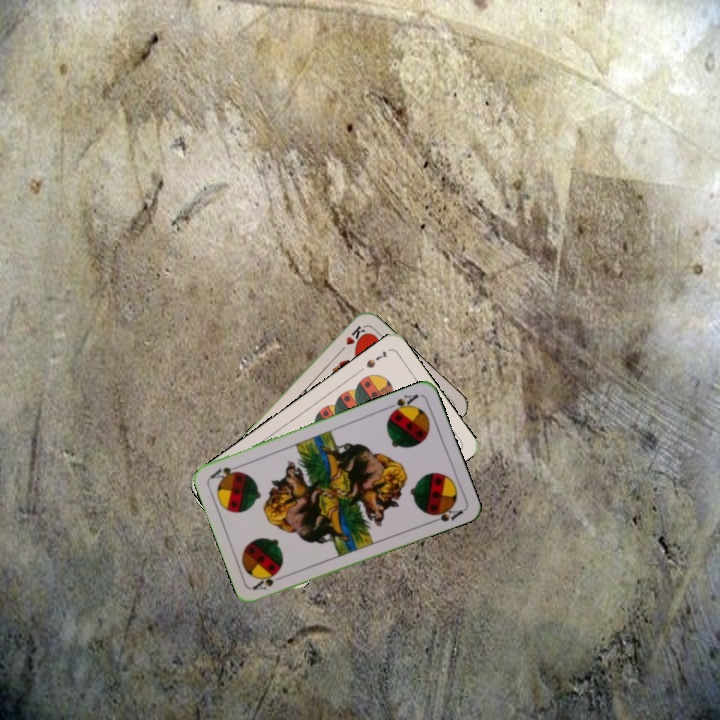HK: (335, 322, 369, 356)
S7: (362, 347, 390, 371)
SA: (383, 390, 421, 418), (249, 568, 289, 593)
